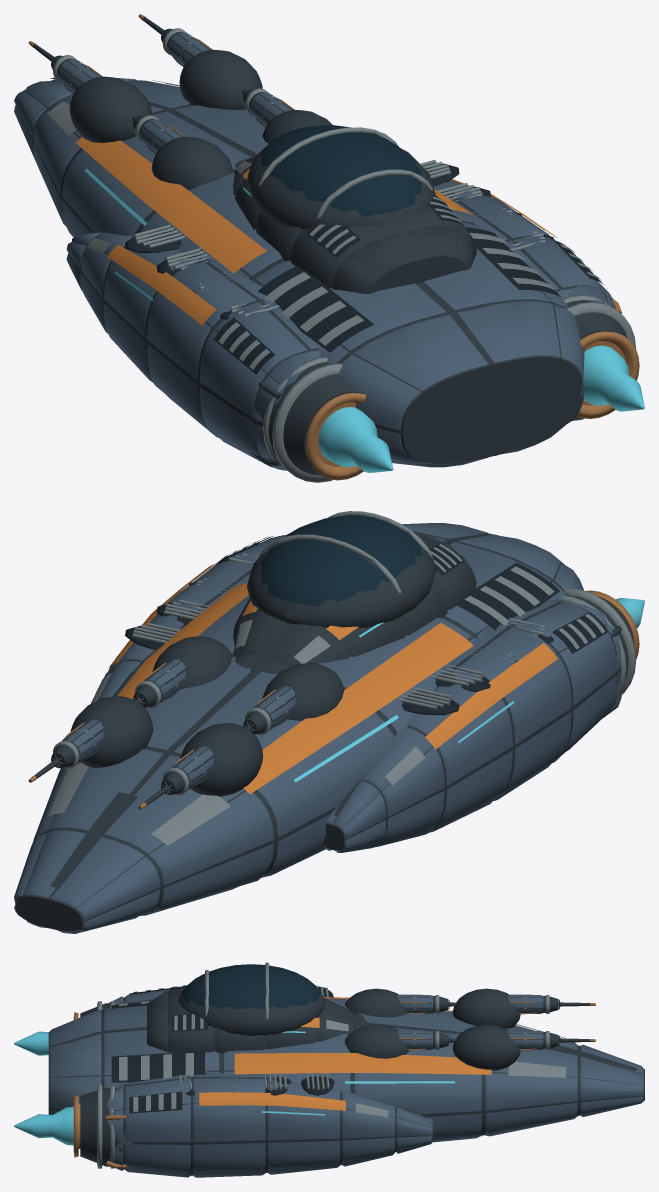
The model's file is titan.glb.
3 renders of one model, top to bottom at view 1: azimuth 30°, elevation 25°; view 2: azimuth 150°, elevation 25°; view 3: azimuth 270°, elevation 25°, orthographic. The views are drawn at different scales.
Parts seen in each view (by area): view 1: titan; view 2: titan; view 3: titan.
Boxes of the visible parts, x1,y1,x2,y2 form: titan: [14, 14, 644, 482]; titan: [14, 511, 644, 933]; titan: [14, 962, 644, 1177].
Size of the model in its own units: 4.55 by 2.74 by 9.84.
